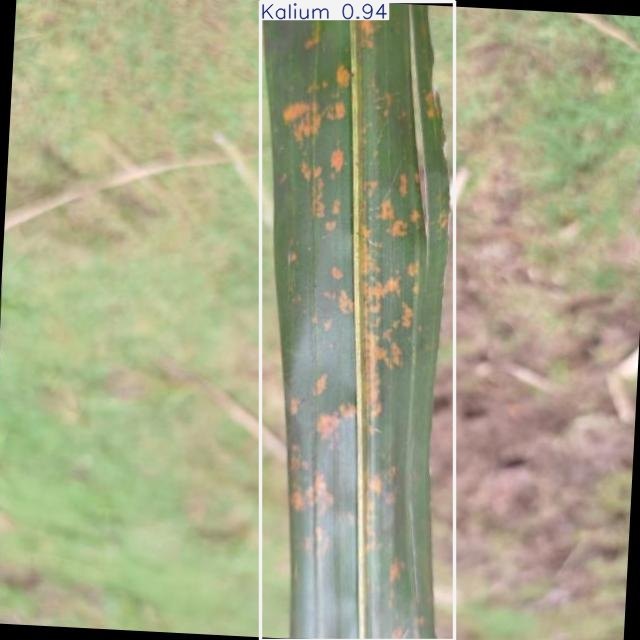Kalium: (260, 2, 455, 640)
